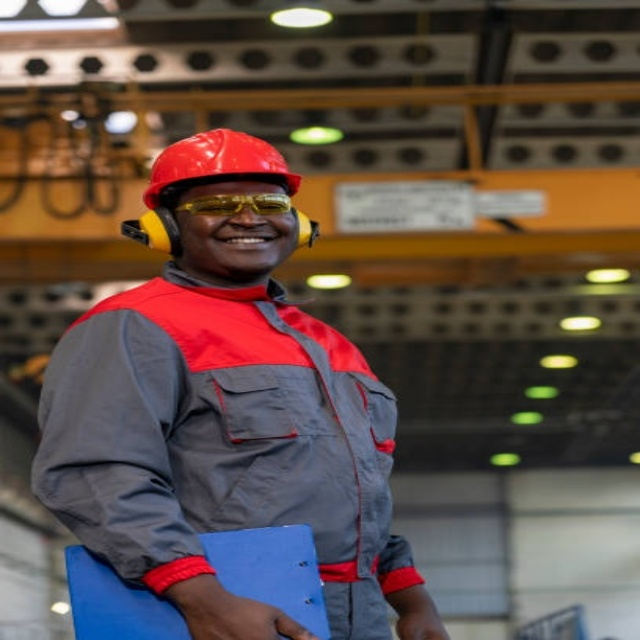Gafas: (173, 193, 297, 217)
Sin_guantes: (171, 590, 320, 637)
Sin_mascara: (210, 230, 282, 260)
